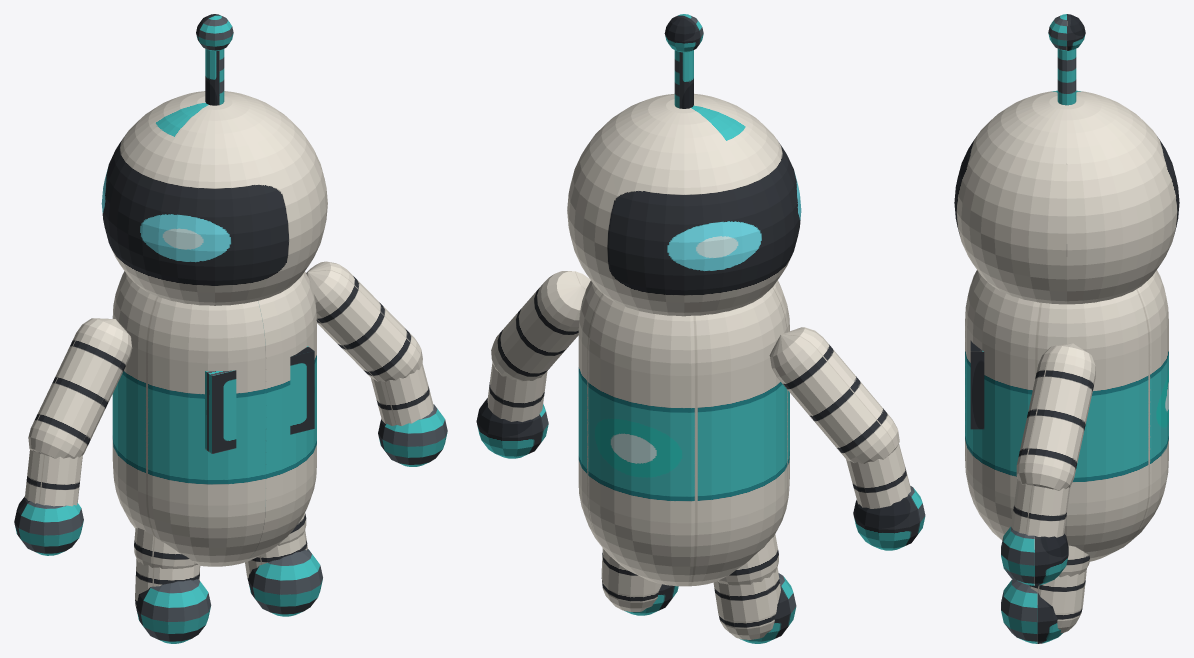
File: sparky.obj
3 renders of one model, left to right at view 1: azimuth 30°, elevation 25°; view 2: azimuth 150°, elevation 25°; view 3: azimuth 270°, elevation 25°, orthographic. The views are drawn at different scales.
Size of the model in its own units: 1.82 by 2.46 by 0.84.
1 material, 1 textured.
